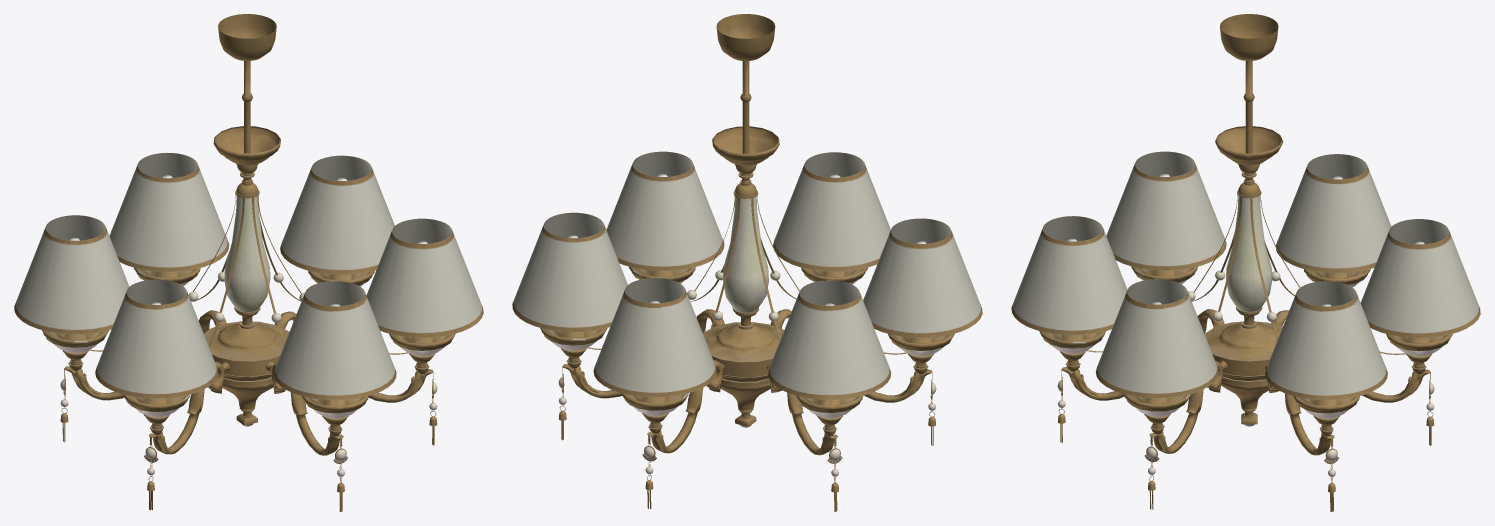
The model's file is Chandelier_01.glb.
The picture shows the model from 3 angles, left to right: view 1: azimuth 30°, elevation 25°; view 2: azimuth 150°, elevation 25°; view 3: azimuth 270°, elevation 25°; orthographic projection.
Visible parts, largest first — view 1: Chandelier_01; view 2: Chandelier_01; view 3: Chandelier_01.
Part boxes in pixels (<box>): Chandelier_01: <box>14,14,483,511</box>; Chandelier_01: <box>512,14,982,511</box>; Chandelier_01: <box>1011,14,1480,511</box>.
Size of the model in its own units: 0.7465 by 0.7982 by 0.8155.
Materials: 2 (1 with a texture image).
